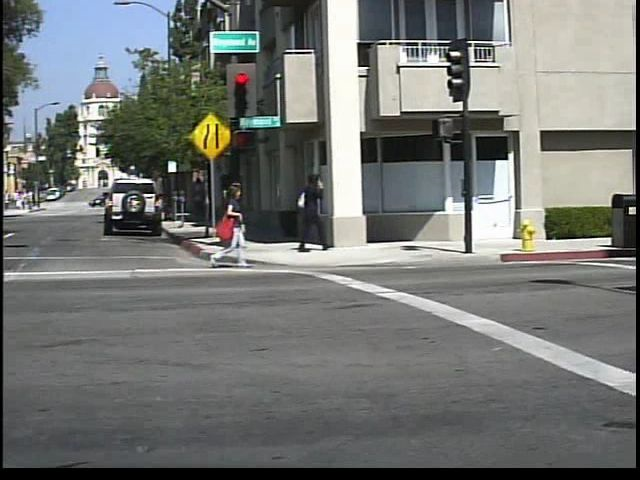person: (214, 178, 264, 269), (298, 168, 340, 254)
